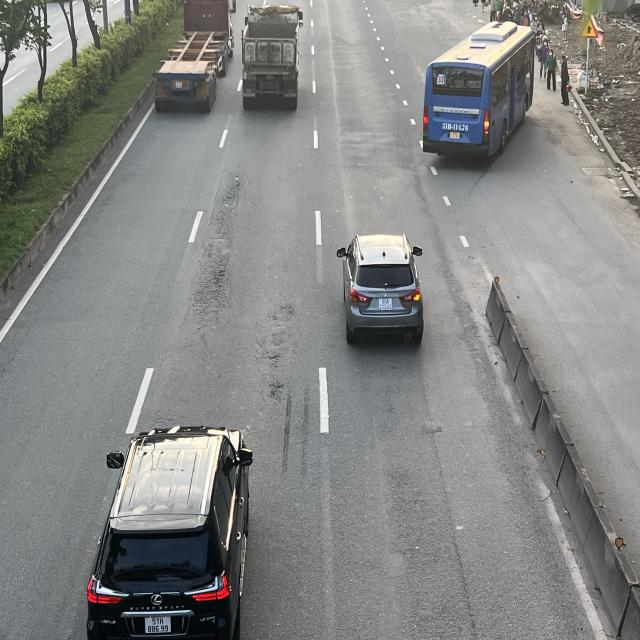car: (83, 428, 251, 640), (335, 235, 423, 346)
coach: (426, 24, 540, 160)
container: (154, 2, 238, 116), (238, 3, 302, 112)
